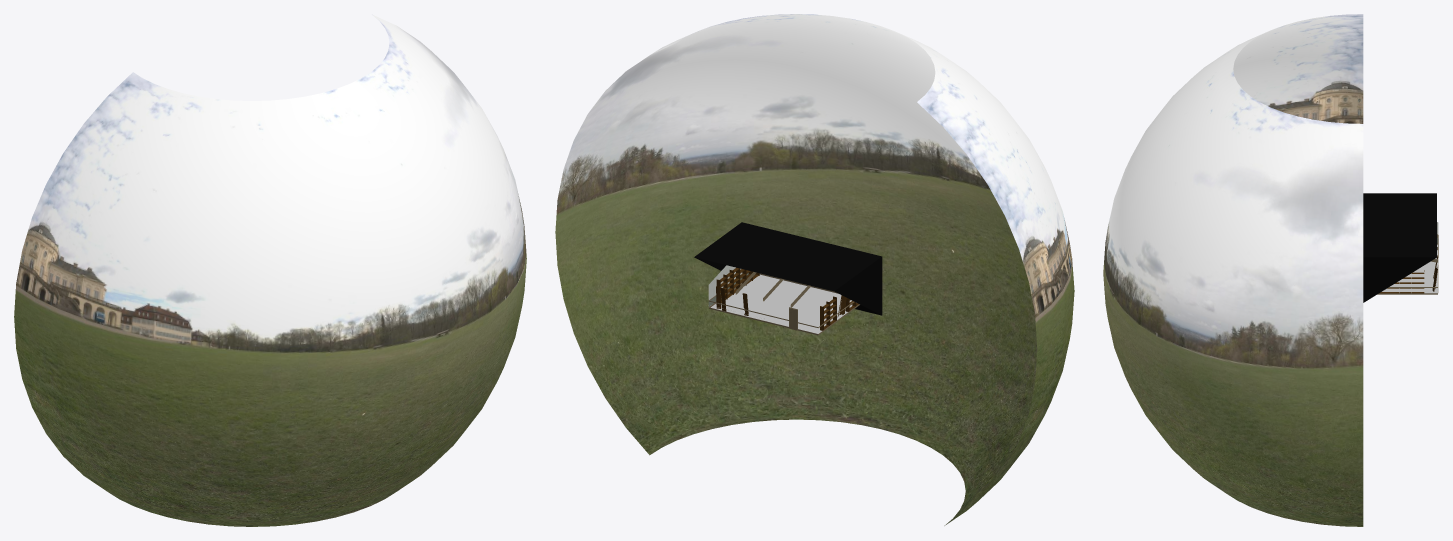
File: batiment.gltf
3 views of the same model, side by side, from view 1: azimuth 30°, elevation 25°; view 2: azimuth 150°, elevation 25°; view 3: azimuth 270°, elevation 25° (orthographic). The views are drawn at different scales.
Parts seen in each view (by area): view 1: Material2.006; view 2: Material2.006, Material2.007, Material2.005, Material2.008, Material2.004; view 3: Material2.006, Material2.007, Material2.005.
Boxes of the visible parts, x1,y1,x2,y2 form: Material2.006: (14, 14, 526, 526); Material2.006: (555, 14, 1074, 525); Material2.007: (694, 222, 882, 315); Material2.005: (711, 274, 852, 333); Material2.008: (716, 267, 858, 330); Material2.004: (709, 272, 859, 335); Material2.006: (1103, 14, 1363, 526); Material2.007: (1363, 193, 1436, 302); Material2.005: (1382, 244, 1437, 293).
Size of what is drawn, in the model's own units: 51.04 by 42.35 by 32.92.
